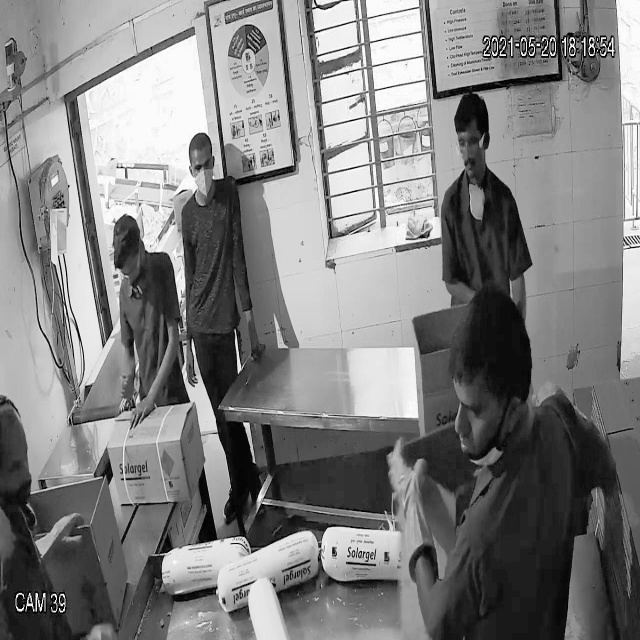Gafas: (452, 131, 490, 159)
Sin_gafas: (188, 156, 215, 173)
